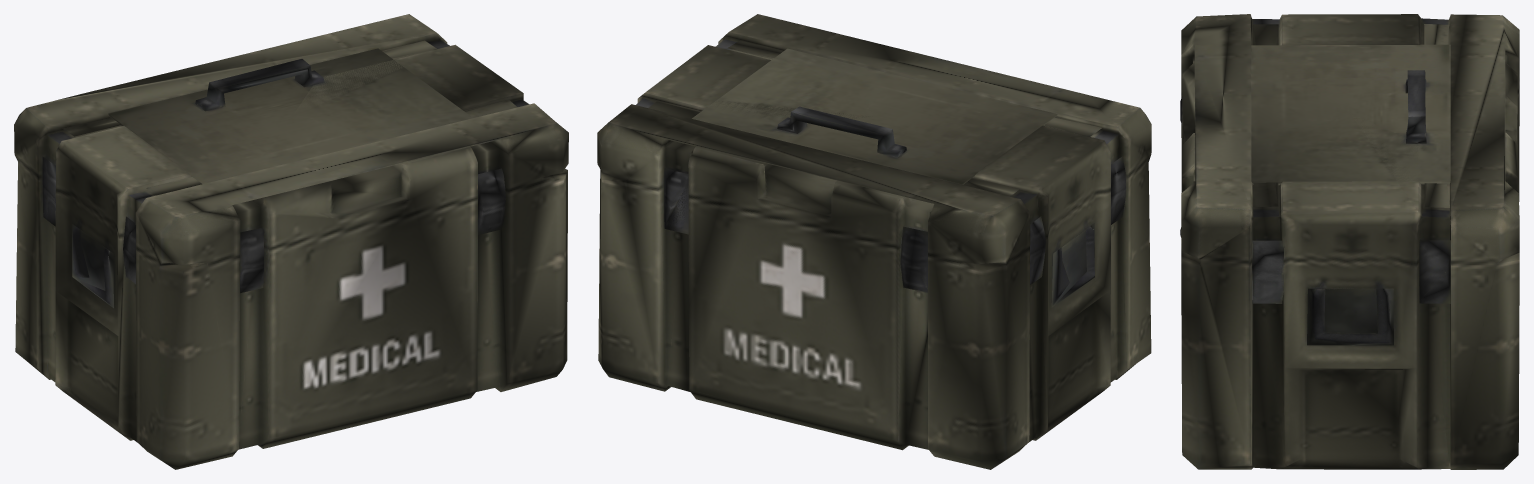
The model's file is Meshy_AI_Medical_Supply_Crate_0907133150_texture.fbx.
3 renders of one model, left to right at view 1: azimuth 30°, elevation 25°; view 2: azimuth 150°, elevation 25°; view 3: azimuth 270°, elevation 25°, orthographic. The views are drawn at different scales.
Parts seen in each view (by area): view 1: mesh_node; view 2: mesh_node; view 3: mesh_node.
Boxes of the visible parts, box(x1,y1,x2,y2) form: mesh_node: box(14, 14, 568, 469); mesh_node: box(597, 14, 1151, 469); mesh_node: box(1180, 14, 1519, 469).
Size of the model in its own units: 100 by 63.87 by 69.73.
1 material, 1 textured.
